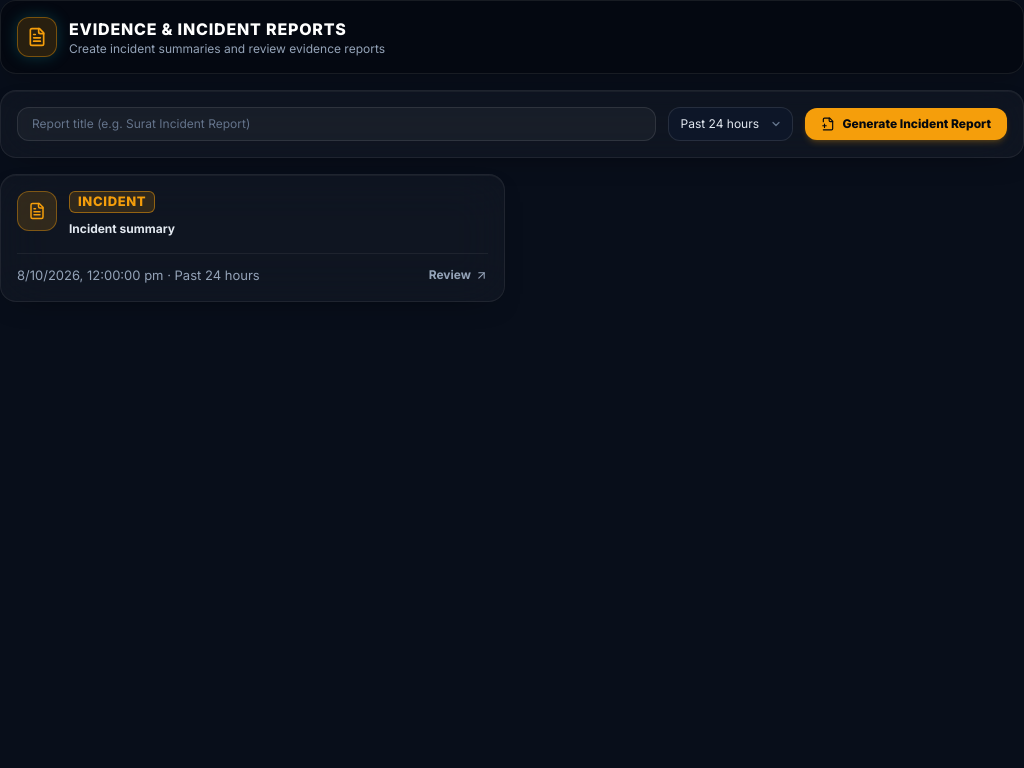
Test: shows medium-concern posts with review reasons, next steps, and readable metric names
Click the heading "Incident summary" at x=122, y=228, box x1=69 y1=220 x2=175 y2=236
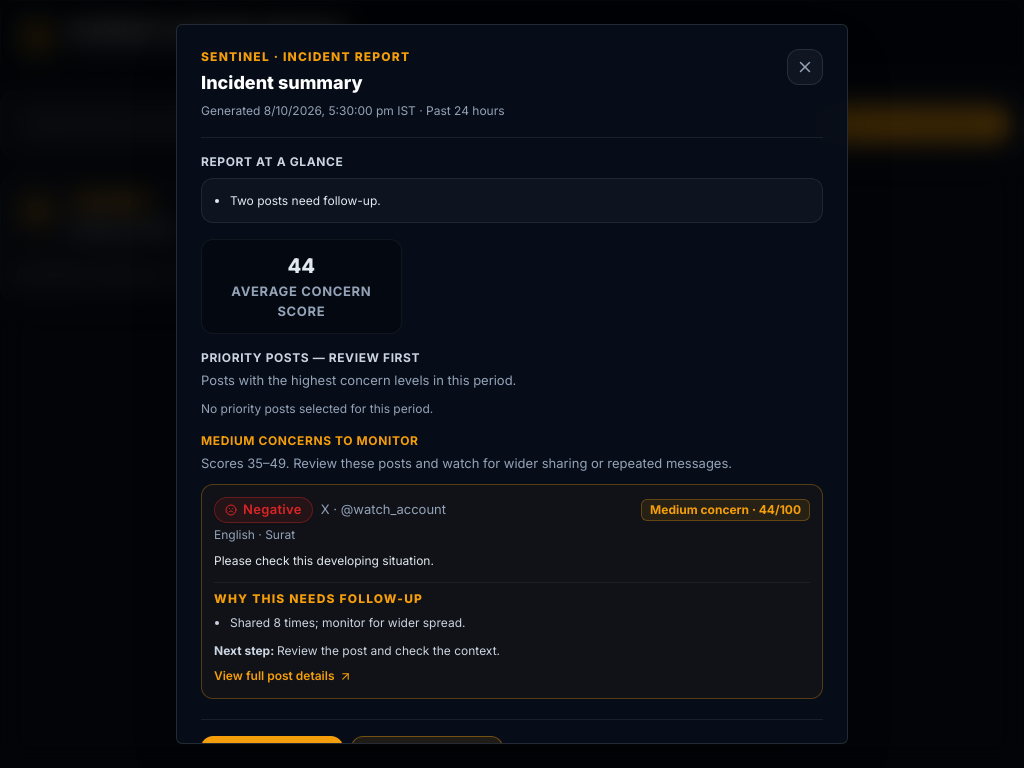
Now the dialog named "Report preview" is shown
Now the heading "Medium concerns to monitor" is shown, box x1=201 y1=433 x2=418 y2=448
Now the text "Scores 35–49" is shown, box x1=201 y1=455 x2=293 y2=471
